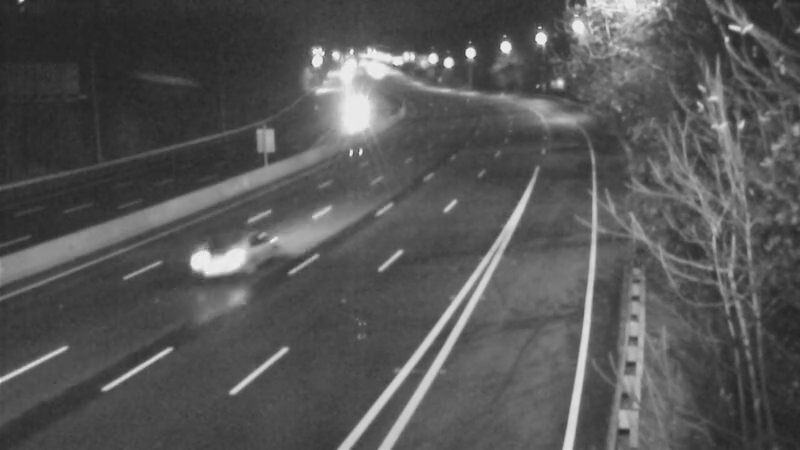vehicle: (189, 220, 269, 300), (326, 89, 376, 139)
